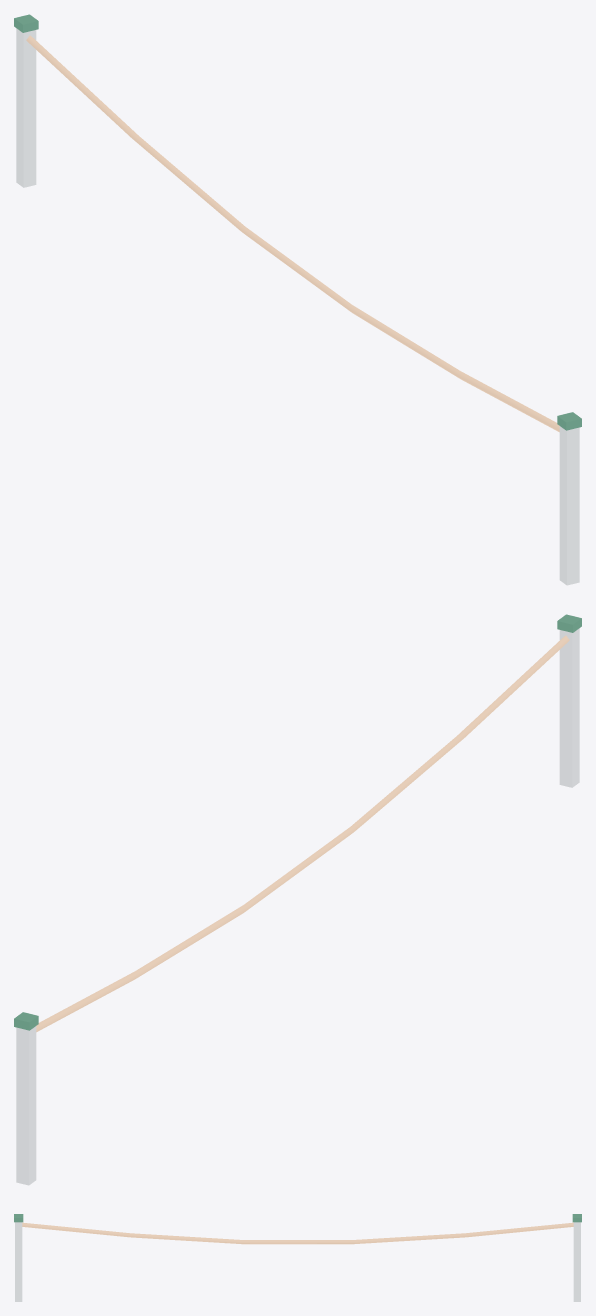
Rendered from Blender_GalleryRope_1.glb.
The picture shows the model from 3 angles, top to bottom: view 1: azimuth 30°, elevation 25°; view 2: azimuth 150°, elevation 25°; view 3: azimuth 270°, elevation 25°; orthographic projection. The views are drawn at different scales.
Parts seen in each view (by area): view 1: Blender_GalleryRope_1; view 2: Blender_GalleryRope_1; view 3: Blender_GalleryRope_1.
Boxes of the visible parts, bbox=[...] form: Blender_GalleryRope_1: bbox=[14, 14, 581, 585]; Blender_GalleryRope_1: bbox=[14, 614, 581, 1185]; Blender_GalleryRope_1: bbox=[14, 1214, 581, 1301].
Bounding box in the file's own units: 0.1 × 1 × 6.1.
